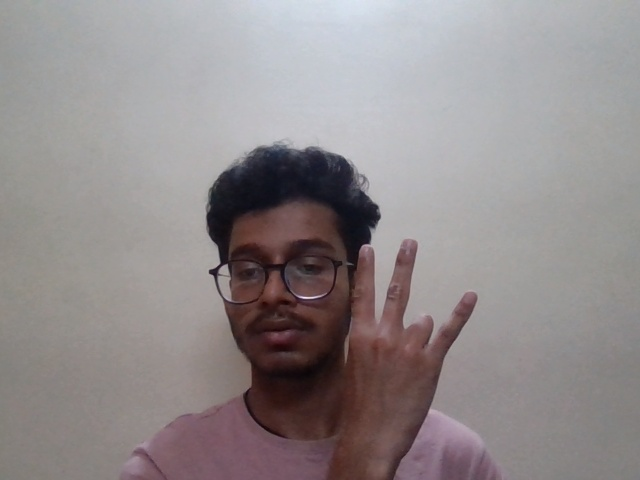why: (345, 227, 492, 453)
